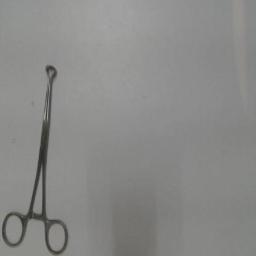Babcock Tissue Forceps: (1, 62, 71, 256)
